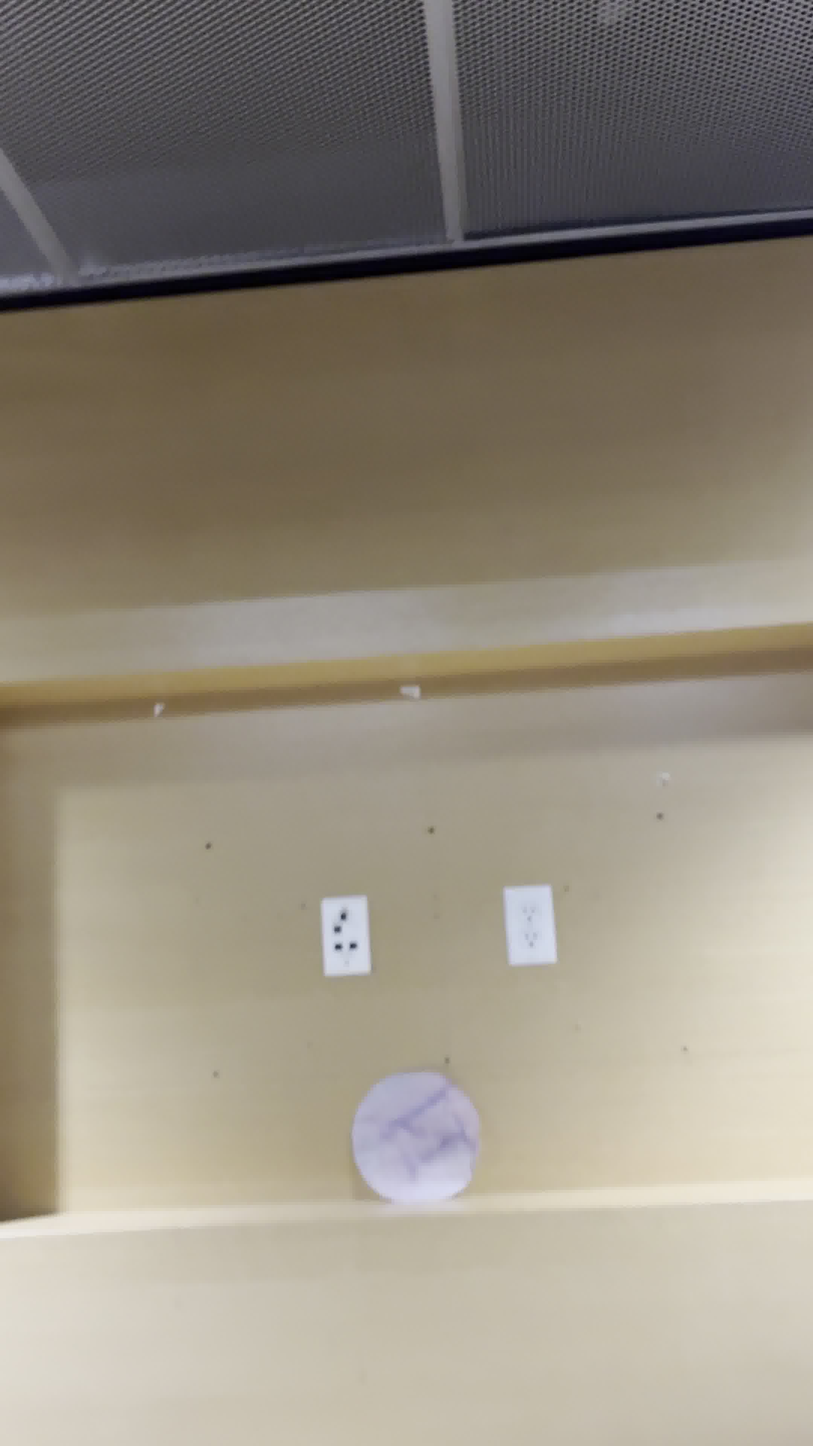Target: (347, 1075, 475, 1205)
